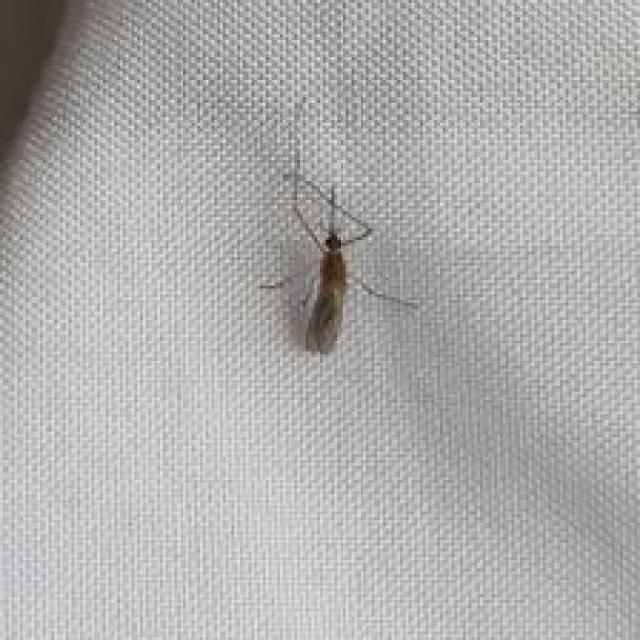Culex: (257, 166, 420, 357)
